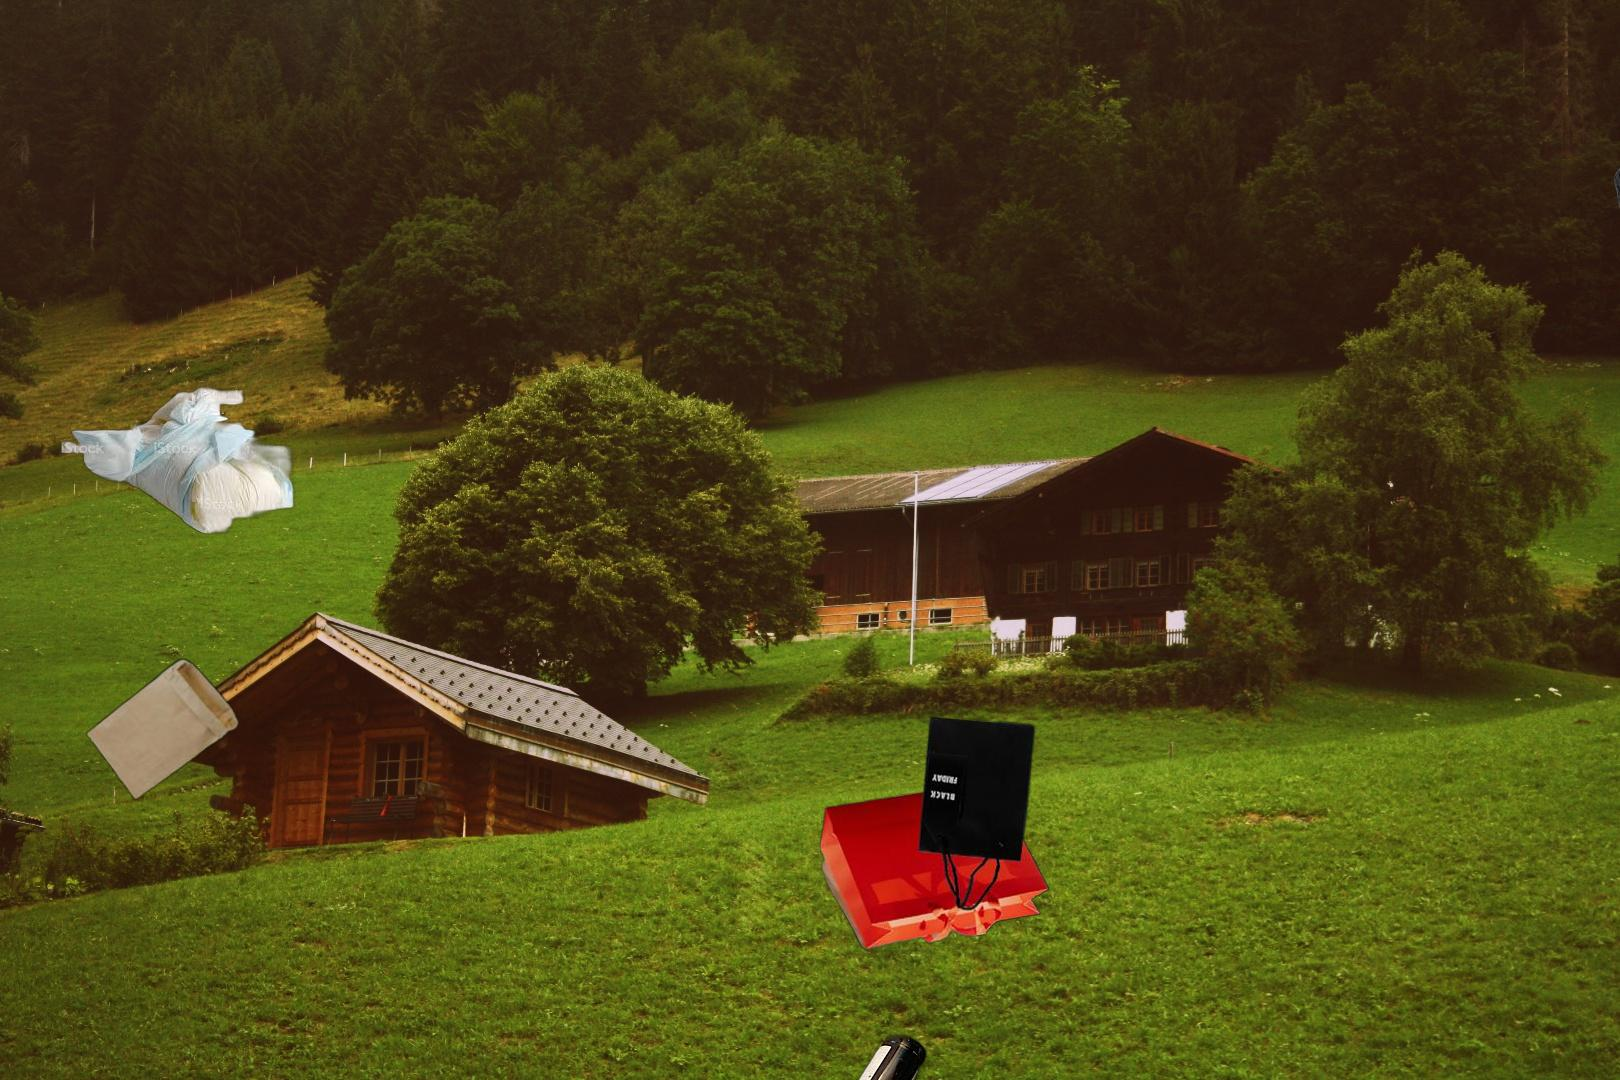clothes: (1612, 58, 1620, 372)
glass: (818, 1028, 931, 1080)
paper-bag: (817, 705, 1056, 994), (84, 656, 242, 803)
trash: (58, 381, 299, 538)
